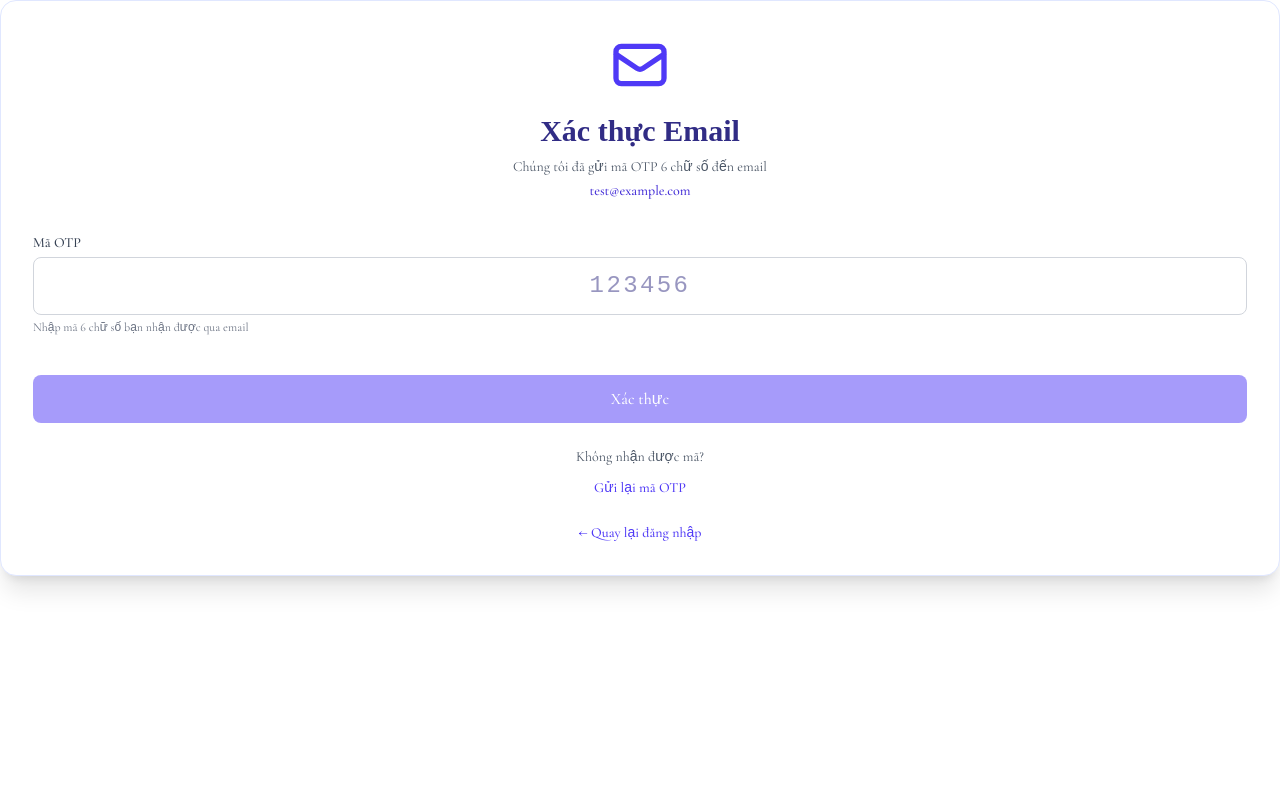
Test: VerifyOTPPage › shows error for invalid OTP
Type "999999" into the field labelled "Mã OTP" at (640, 286), box left=33, top=257, right=1247, bottom=315
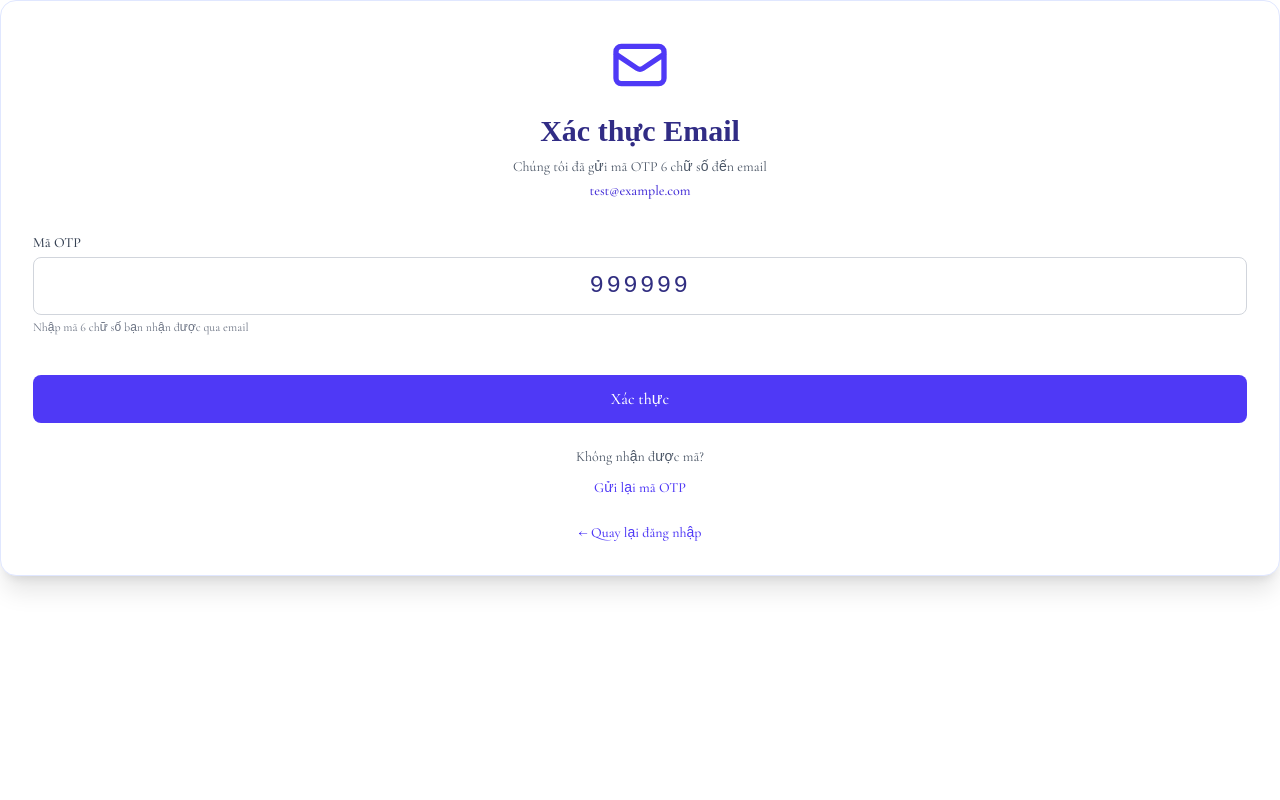
Click the button "Xác thực" at (640, 399), box left=33, top=375, right=1247, bottom=423
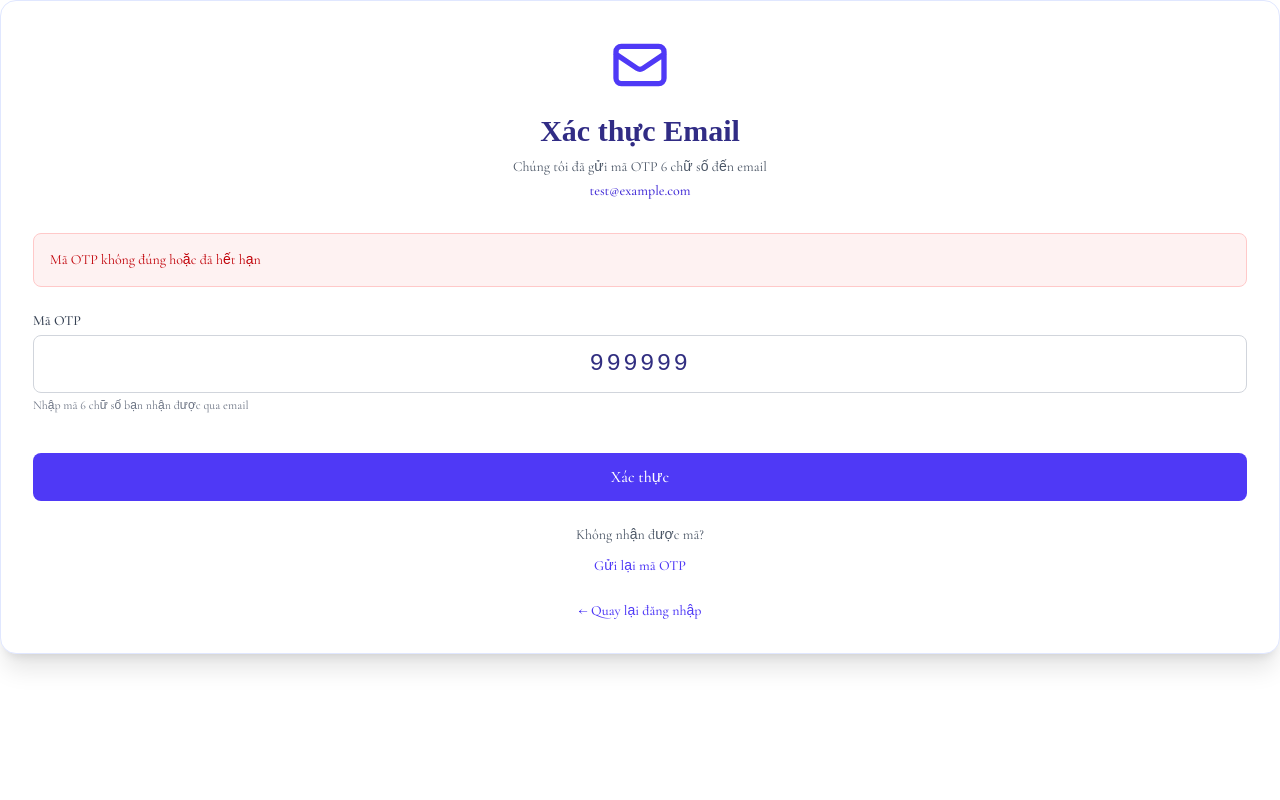
expect the text "Mã OTP không đúng hoặc đã hết hạn" is shown: met, box left=33, top=233, right=1247, bottom=287
